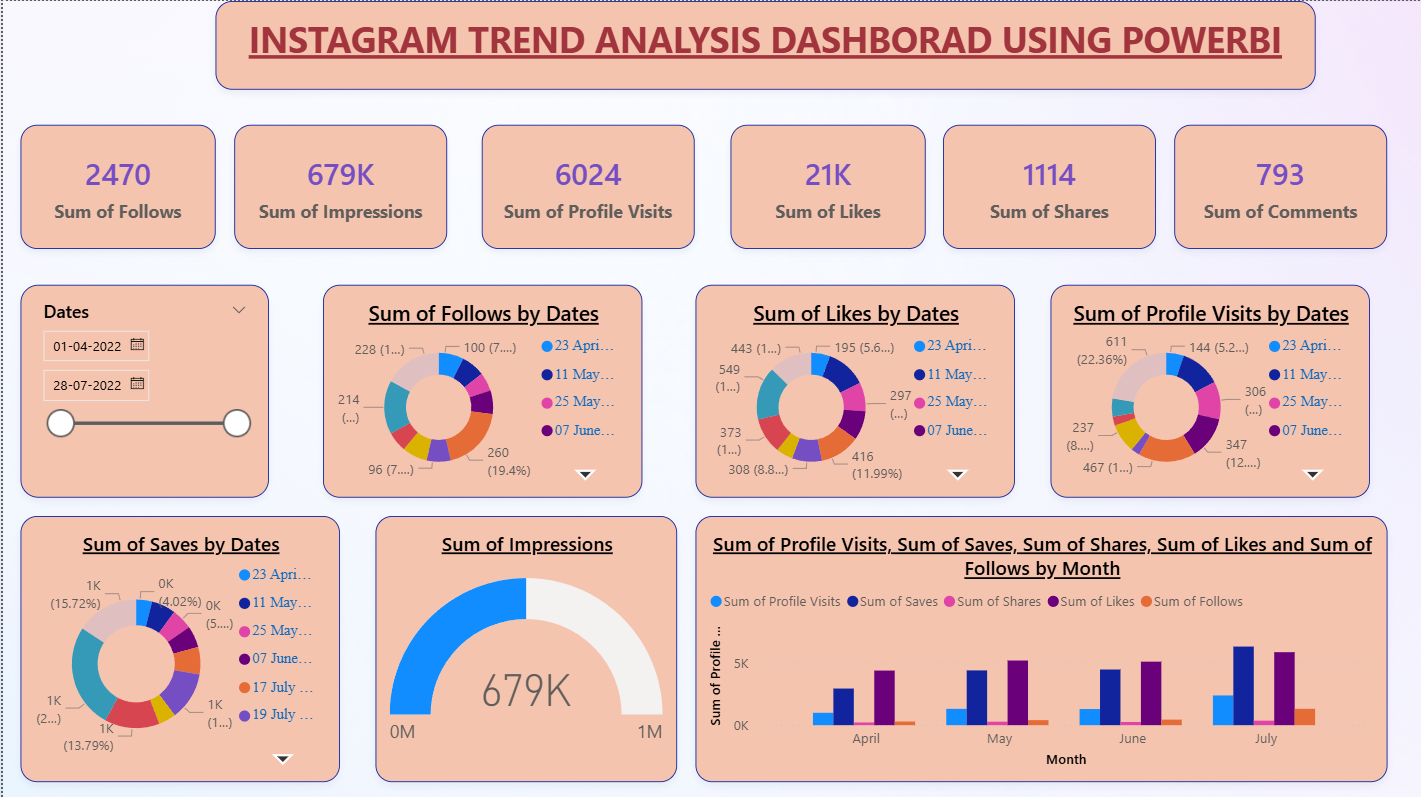

Layout of this report page (visuals, bound fields, positions):
{"tool":"powerbi","page":{"name":"Page 1","canvas":[1280,720],"ordinal":0},"visuals":[{"type":"textbox","box":[192,0,992,80],"z":0},{"type":"card","fields":{"Values":["Sum(Sheet1.Impressions)"]},"box":[208,112,192,112],"z":1000},{"type":"card","fields":{"Values":["Sum(Sheet1.Follows)"]},"box":[16,112,176,112],"z":2000},{"type":"card","fields":{"Values":["Sum(Sheet1.Shares)"]},"box":[848,112,192,112],"z":3000},{"type":"card","fields":{"Values":["Sum(Sheet1.Profile Visits)"]},"box":[432,112,192,112],"z":4000},{"type":"card","fields":{"Values":["Sum(Sheet1.Likes)"]},"box":[656,112,176,112],"z":5000},{"type":"card","fields":{"Values":["Sum(Sheet1.Comments)"]},"box":[1056,112,192,112],"z":6000},{"type":"slicer","fields":{"Values":["Sheet1.Dates"]},"box":[16,256,224,192],"z":7000},{"type":"donutChart","fields":{"Y":["Sum(Sheet1.Follows)"],"Category":["Sheet1.Dates"]},"box":[288,256,288,192],"z":8000},{"type":"donutChart","fields":{"Y":["Sum(Sheet1.Likes)"],"Category":["Sheet1.Dates"]},"box":[624,256,288,192],"z":9000},{"type":"donutChart","fields":{"Y":["Sum(Sheet1.Saves)"],"Category":["Sheet1.Dates"]},"box":[16,464,288,240],"z":10000},{"type":"donutChart","fields":{"Y":["Sum(Sheet1.Profile Visits)"],"Category":["Sheet1.Dates"]},"box":[944,256,288,192],"z":11000},{"type":"gauge","fields":{"Y":["Sum(Sheet1.Impressions)"]},"box":[336,464,272,240],"z":12000},{"type":"clusteredColumnChart","fields":{"Y":["Sum(Sheet1.Profile Visits)","Sum(Sheet1.Saves)","Sum(Sheet1.Shares)","Sum(Sheet1.Likes)","Sum(Sheet1.Follows)"],"Category":["Sheet1.Dates.Variation.Date Hierarchy.Month"]},"box":[624,464,624,240],"z":13001}]}

Visuals, with their boxes in screenshot pixels (x1, y1, x2, y2), scaled from the page's 1280x720 canvas onto the 1421x797 screenshot:
textbox: [x1=213, y1=0, x2=1314, y2=89]
card - Sum(Sheet1.Impressions): [x1=231, y1=124, x2=444, y2=248]
card - Sum(Sheet1.Follows): [x1=18, y1=124, x2=213, y2=248]
card - Sum(Sheet1.Shares): [x1=941, y1=124, x2=1155, y2=248]
card - Sum(Sheet1.Profile Visits): [x1=480, y1=124, x2=693, y2=248]
card - Sum(Sheet1.Likes): [x1=728, y1=124, x2=924, y2=248]
card - Sum(Sheet1.Comments): [x1=1172, y1=124, x2=1385, y2=248]
slicer - Sheet1.Dates: [x1=18, y1=283, x2=266, y2=496]
donutChart - Sum(Sheet1.Follows) x Sheet1.Dates: [x1=320, y1=283, x2=639, y2=496]
donutChart - Sum(Sheet1.Likes) x Sheet1.Dates: [x1=693, y1=283, x2=1012, y2=496]
donutChart - Sum(Sheet1.Saves) x Sheet1.Dates: [x1=18, y1=514, x2=337, y2=779]
donutChart - Sum(Sheet1.Profile Visits) x Sheet1.Dates: [x1=1048, y1=283, x2=1368, y2=496]
gauge - Sum(Sheet1.Impressions): [x1=373, y1=514, x2=675, y2=779]
clusteredColumnChart - Sum(Sheet1.Profile Visits) x Sum(Sheet1.Saves): [x1=693, y1=514, x2=1385, y2=779]
